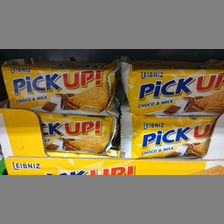chocolate: (2, 62, 116, 116), (118, 64, 224, 116), (18, 112, 120, 159), (122, 115, 224, 160)
